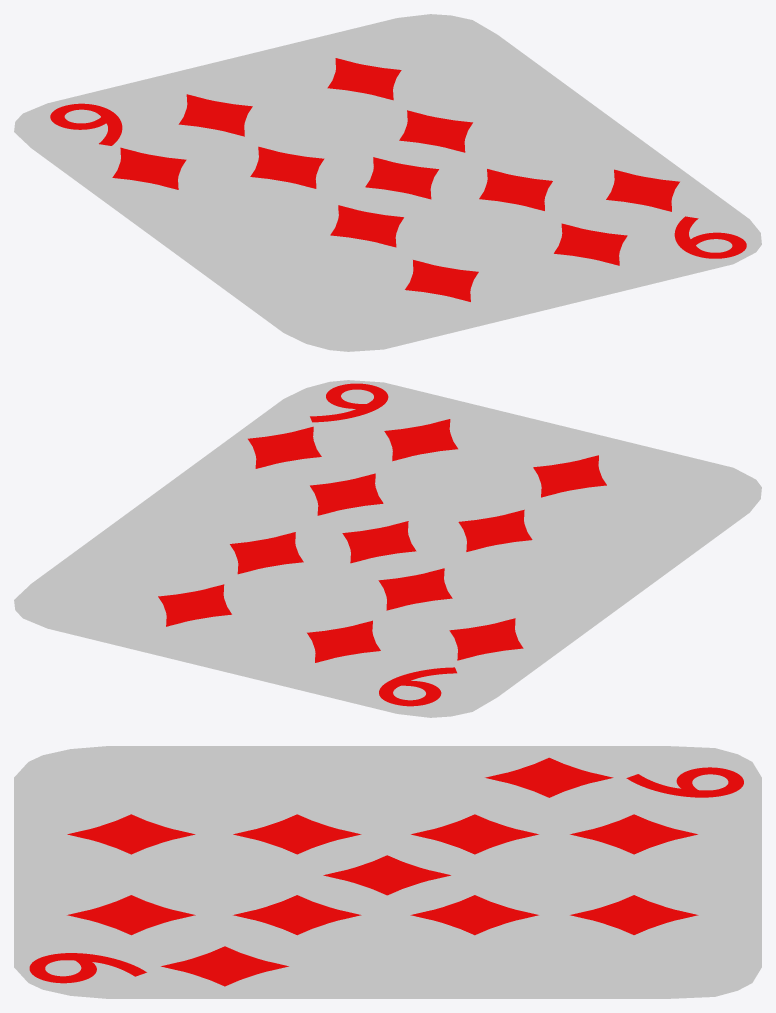
3 views of the same model, one above another, from view 1: azimuth 30°, elevation 25°; view 2: azimuth 150°, elevation 25°; view 3: azimuth 270°, elevation 25° (orthographic). The views are drawn at different scales.
Parts seen in each view (by area): view 1: 9ofDiamonds, Plane.055_Materia, Plane.054_Materia, Plane.058_Materia, Plane.063_Materia, Plane.064_Materia, Plane.057_Materia, Plane.061_Materia, Plane.059_Materia, Plane.056_Materia, Plane.060_Materia, Plane.062_Materia (+2 smaller); view 2: 9ofDiamonds, Plane.061_Materia, Plane.064_Materia, Plane.058_Materia, Plane.055_Materia, Plane.059_Materia, Plane.057_Materia, Plane.063_Materia, Plane.054_Materia, Plane.060_Materia, Plane.056_Materia, Plane.062_Materia (+2 smaller); view 3: 9ofDiamonds, Plane.063_Materia, Plane.061_Materia, Plane.062_Materia, Plane.060_Materia, Plane.055_Materia, Plane.064_Materia, Plane.057_Materia, Plane.058_Materia, Plane.059_Materia, Plane.054_Materia, Plane.056_Materia (+2 smaller).
Part boxes in pixels (x1,y1,x2,y2): 9ofDiamonds: [14, 14, 761, 351]; Plane.055_Materia: [112, 147, 186, 189]; Plane.054_Materia: [327, 58, 401, 100]; Plane.058_Materia: [250, 146, 324, 188]; Plane.063_Materia: [554, 223, 627, 265]; Plane.064_Materia: [365, 157, 438, 199]; Plane.057_Materia: [178, 94, 252, 136]; Plane.061_Materia: [330, 205, 403, 247]; Plane.059_Materia: [399, 110, 472, 152]; Plane.056_Materia: [606, 169, 679, 211]; Plane.060_Materia: [479, 169, 552, 210]; Plane.062_Materia: [405, 260, 478, 301]; 9ofDiamonds: [14, 380, 761, 717]; Plane.061_Materia: [458, 509, 532, 551]; Plane.064_Materia: [342, 521, 416, 563]; Plane.058_Materia: [378, 568, 452, 610]; Plane.055_Materia: [449, 618, 523, 660]; Plane.059_Materia: [230, 532, 303, 574]; Plane.057_Materia: [307, 620, 380, 662]; Plane.063_Materia: [384, 419, 457, 461]; Plane.054_Materia: [158, 584, 231, 626]; Plane.060_Materia: [310, 473, 383, 515]; Plane.056_Materia: [248, 426, 321, 468]; Plane.062_Materia: [533, 455, 606, 497]; 9ofDiamonds: [14, 746, 761, 998]; Plane.063_Materia: [67, 895, 195, 935]; Plane.061_Materia: [233, 814, 361, 854]; Plane.062_Materia: [67, 814, 195, 854]; Plane.060_Materia: [233, 895, 361, 935]; Plane.055_Materia: [485, 757, 613, 797]; Plane.064_Materia: [323, 855, 450, 895]; Plane.057_Materia: [570, 814, 697, 854]; Plane.058_Materia: [411, 814, 538, 854]; Plane.059_Materia: [410, 895, 538, 935]; Plane.054_Materia: [570, 895, 698, 934]; Plane.056_Materia: [161, 946, 288, 986].
Size of the model in its own units: 1.6 by 0.00974 by 2.
